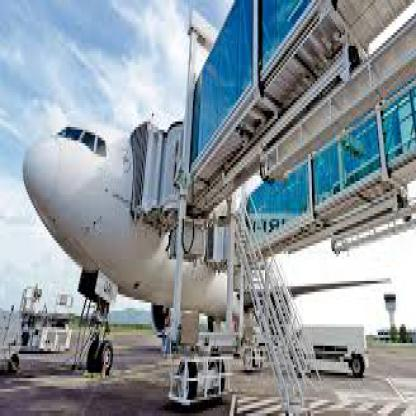boarding bridge: (115, 113, 162, 238)
